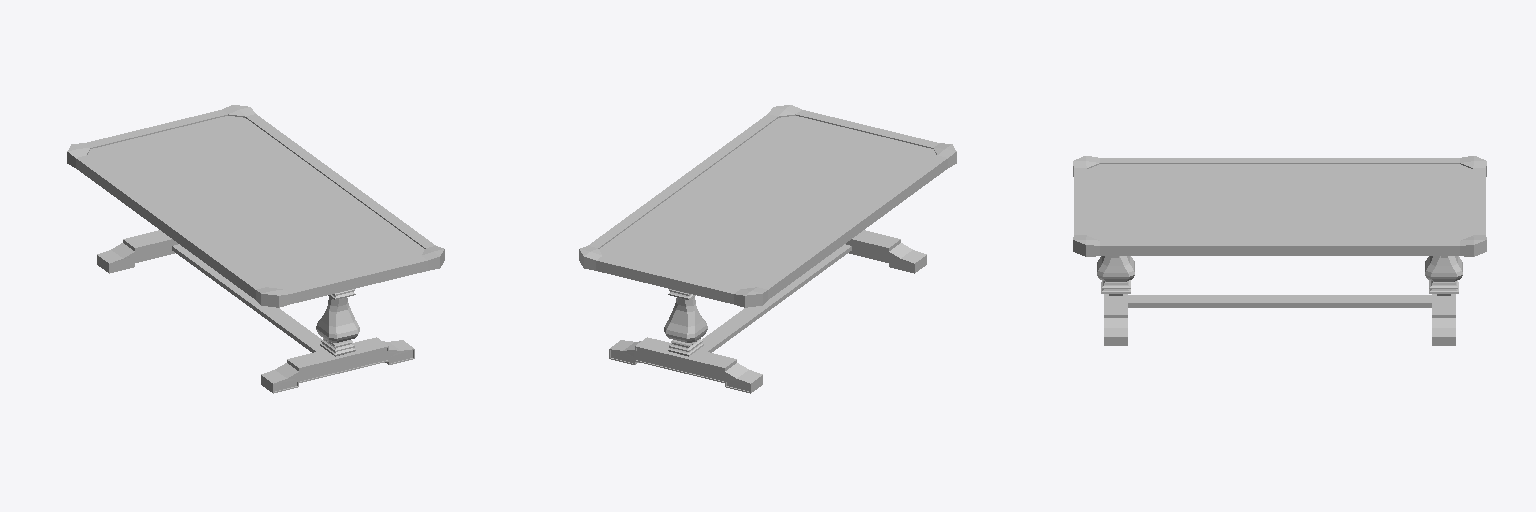
Rendered from Table2.obj.
The picture shows the model from 3 angles: view 1: azimuth 30°, elevation 25°; view 2: azimuth 150°, elevation 25°; view 3: azimuth 270°, elevation 25°; orthographic projection.
Parts seen in each view (by area): view 1: Table2; view 2: Table2; view 3: Table2.
Part boxes in pixels (x1,y1,x2,y2): Table2: (67, 105, 444, 393); Table2: (579, 105, 956, 393); Table2: (1073, 156, 1486, 345).
Bounding box in the file's own units: 1.42 × 0.8244 × 2.78.